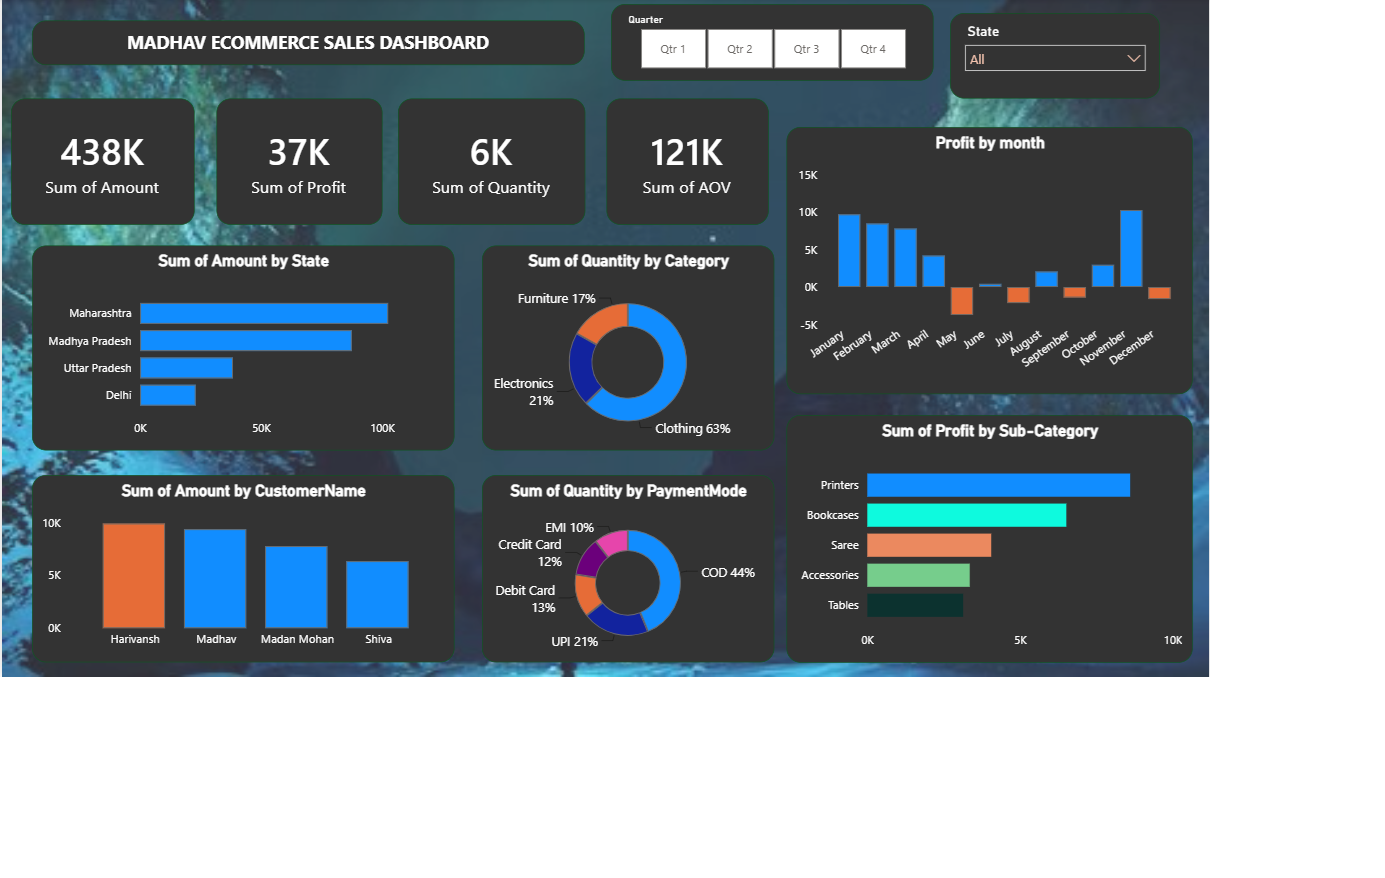

This screenshot's page, from the dashboard's own definition file:
{"tool":"powerbi","page":{"name":"Page 1","canvas":[1280,720],"ordinal":0},"visuals":[{"type":"textbox","box":[32.1,24.6,585.8,47.2],"z":0},{"type":"columnChart","title":"Profit by month","fields":{"Category":["Orders.Order Date.Variation.Date Hierarchy.Month"],"Y":["Sum(Details.Profit)"]},"box":[831.5,136.1,430.9,283.5],"z":1000},{"type":"barChart","fields":{"Category":["Details.Sub-Category"],"Y":["Sum(Details.Profit)"]},"box":[831.5,442.2,430.9,262.7],"z":2000},{"type":"donutChart","fields":{"Category":["Details.Category"],"Y":["Sum(Details.Quantity)"]},"box":[508.4,262.7,309.9,217.3],"z":3000},{"type":"donutChart","fields":{"Y":["Sum(Details.Quantity)"],"Category":["Details.PaymentMode"]},"box":[508.4,506.5,309.9,198.4],"z":4000},{"type":"cardVisual","fields":{"Data":["Sum(Details.Amount)"]},"box":[9.4,105.8,194.6,134.2],"z":5000},{"type":"cardVisual","fields":{"Data":["Sum(Details.Profit)"]},"box":[226.8,105.8,175.7,134.2],"z":6000},{"type":"cardVisual","fields":{"Data":["Sum(Details.Quantity)"]},"box":[419.5,105.8,198.4,134.2],"z":7000},{"type":"cardVisual","fields":{"Data":["Sum(Details.AOV)"]},"box":[640.6,105.8,172,134.2],"z":8000},{"type":"barChart","fields":{"Category":["Orders.State"],"Y":["Sum(Details.Amount)"]},"box":[32.1,262.7,447.9,217.3],"z":9000},{"type":"columnChart","fields":{"Y":["Sum(Details.Amount)"],"Category":["Orders.CustomerName"]},"box":[32.1,506.5,447.9,198.4],"z":10000},{"type":"slicer","fields":{"Values":["Orders.Order Date.Variation.Date Hierarchy.Quarter"]},"box":[646.3,5.7,342,81.3],"z":11000},{"type":"slicer","fields":{"Values":["Orders.State"]},"box":[1005.4,15.1,223,90.7],"z":12000}]}

Visuals, with their boxes on the page's 1280x720 design canvas (x1, y1, x2, y2). These are canvas units, not pixel positions in the 1385x878 screenshot, which may show the page scaled, cropped or inside an application window:
textbox: l=32, t=25, r=618, b=72
"Profit by month" columnChart: l=832, t=136, r=1262, b=420
barChart - Details.Sub-Category x Sum(Details.Profit): l=832, t=442, r=1262, b=705
donutChart - Details.Category x Sum(Details.Quantity): l=508, t=263, r=818, b=480
donutChart - Sum(Details.Quantity) x Details.PaymentMode: l=508, t=506, r=818, b=705
cardVisual - Sum(Details.Amount): l=9, t=106, r=204, b=240
cardVisual - Sum(Details.Profit): l=227, t=106, r=402, b=240
cardVisual - Sum(Details.Quantity): l=420, t=106, r=618, b=240
cardVisual - Sum(Details.AOV): l=641, t=106, r=813, b=240
barChart - Orders.State x Sum(Details.Amount): l=32, t=263, r=480, b=480
columnChart - Sum(Details.Amount) x Orders.CustomerName: l=32, t=506, r=480, b=705
slicer - Orders.Order Date.Variation.Date Hierarchy.Quarter: l=646, t=6, r=988, b=87
slicer - Orders.State: l=1005, t=15, r=1228, b=106
